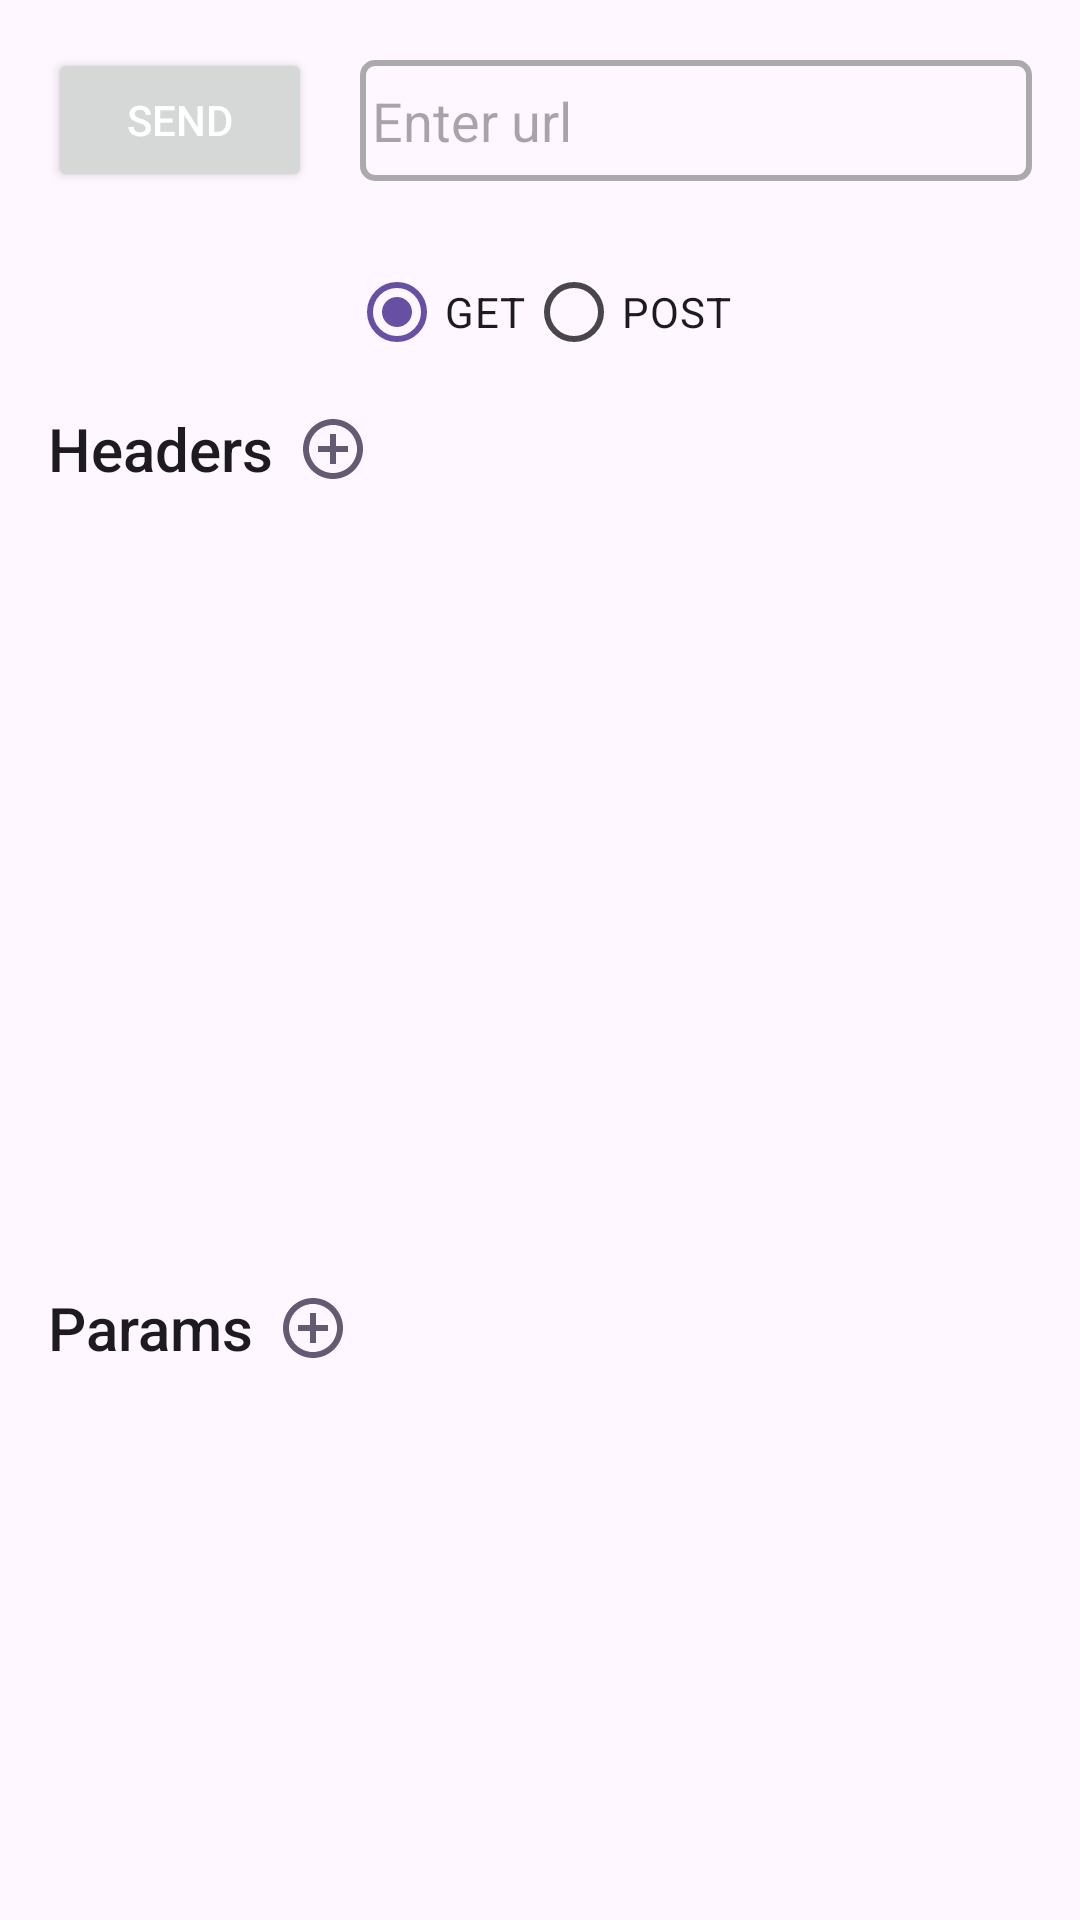

Where icons sit on this 1080*1920 app screen, as Rect(x1, y1, x2, y2):
add circle: Rect(303, 419, 363, 479), Rect(283, 1298, 343, 1358)
